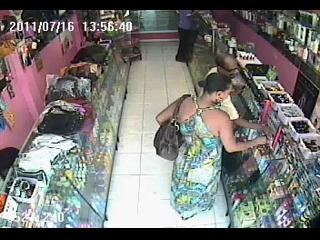Normal: (155, 71, 269, 226), (153, 94, 189, 161), (175, 11, 201, 66), (121, 46, 142, 65)
